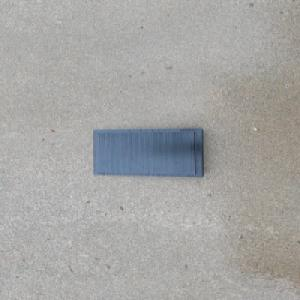PlasticPart: (91, 128, 205, 179)
